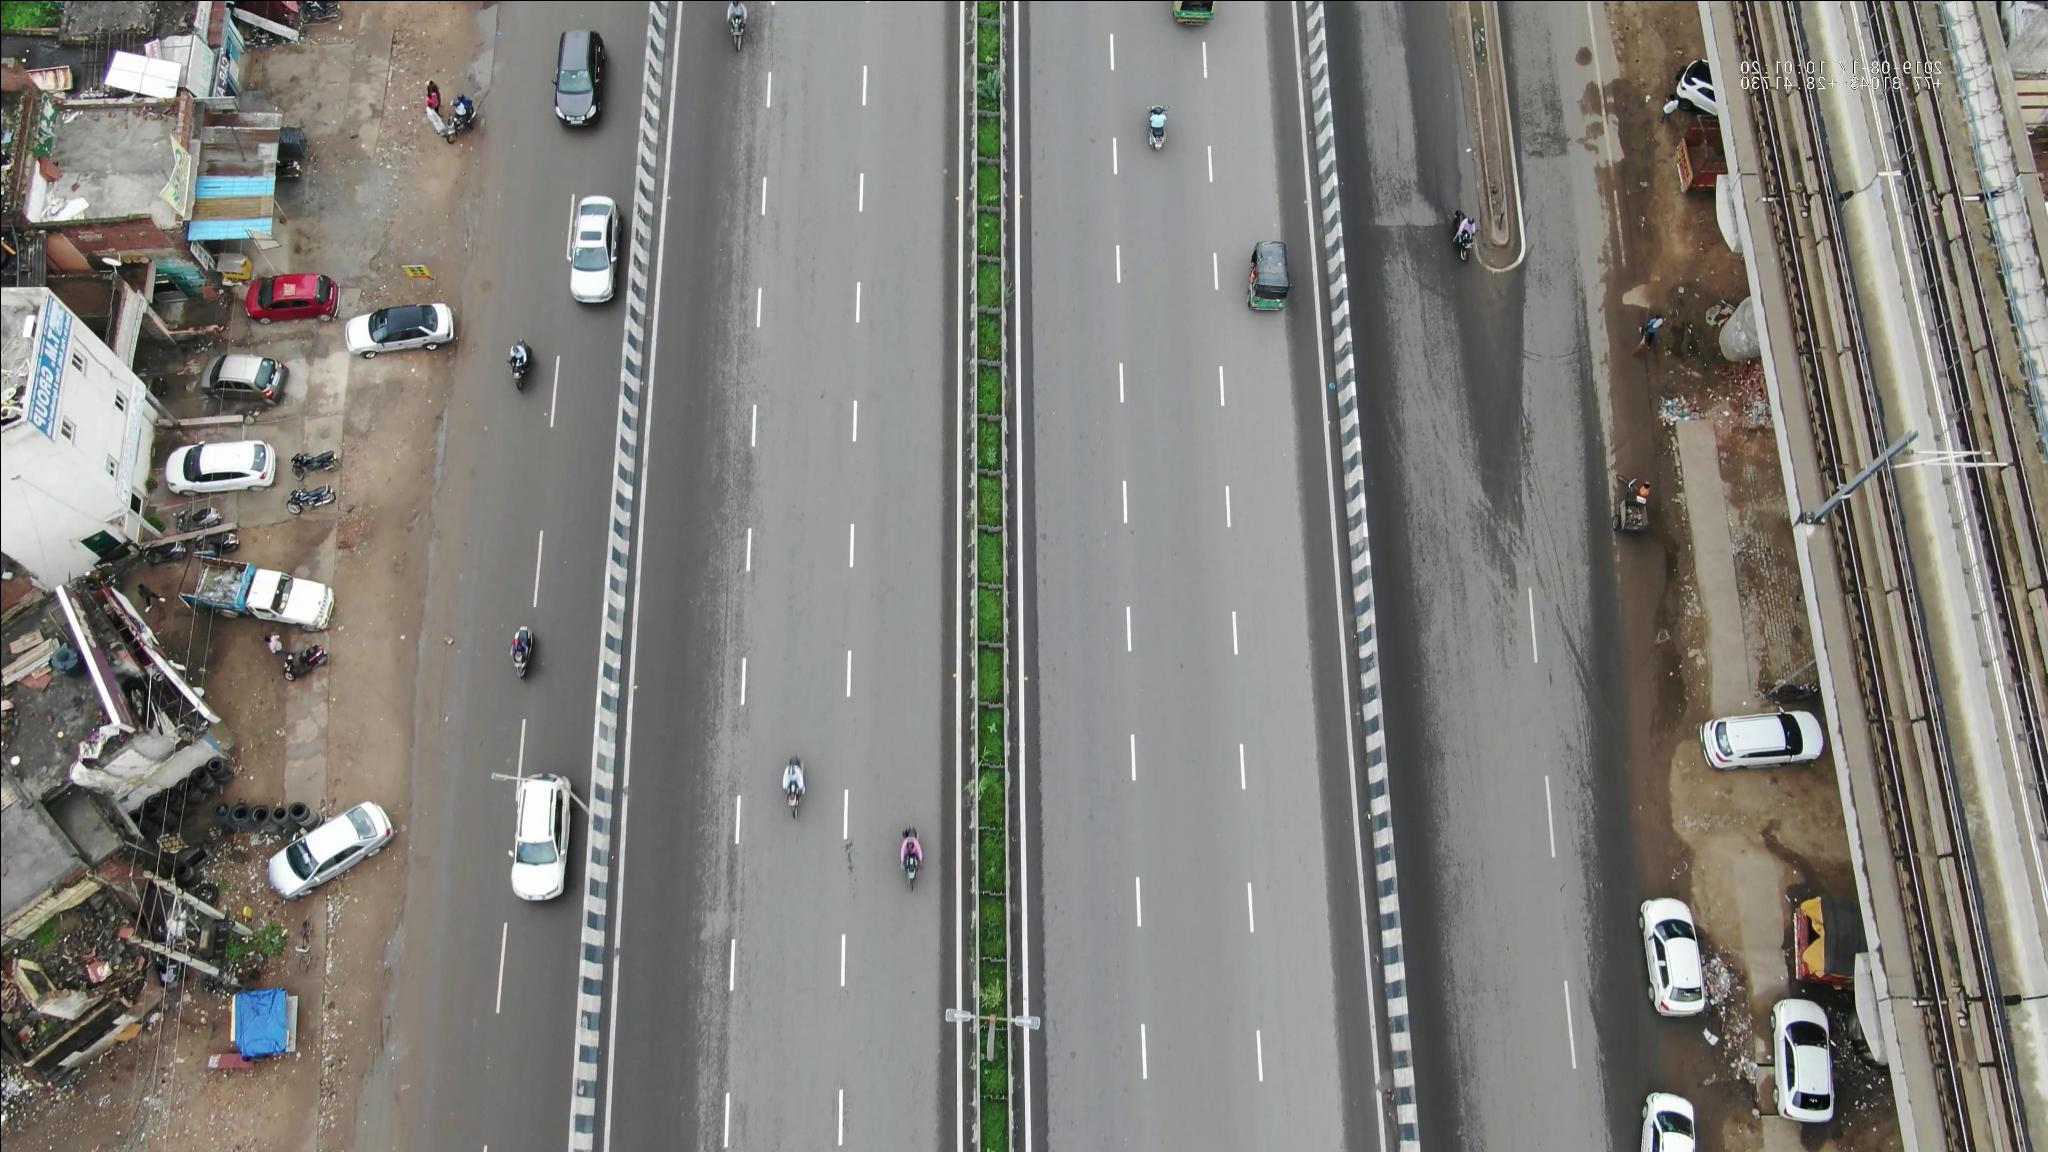Muddy_road: (1575, 165, 1634, 346), (1611, 563, 1671, 706), (1588, 369, 1654, 478)
Waterlogging: (1452, 127, 1485, 212)
